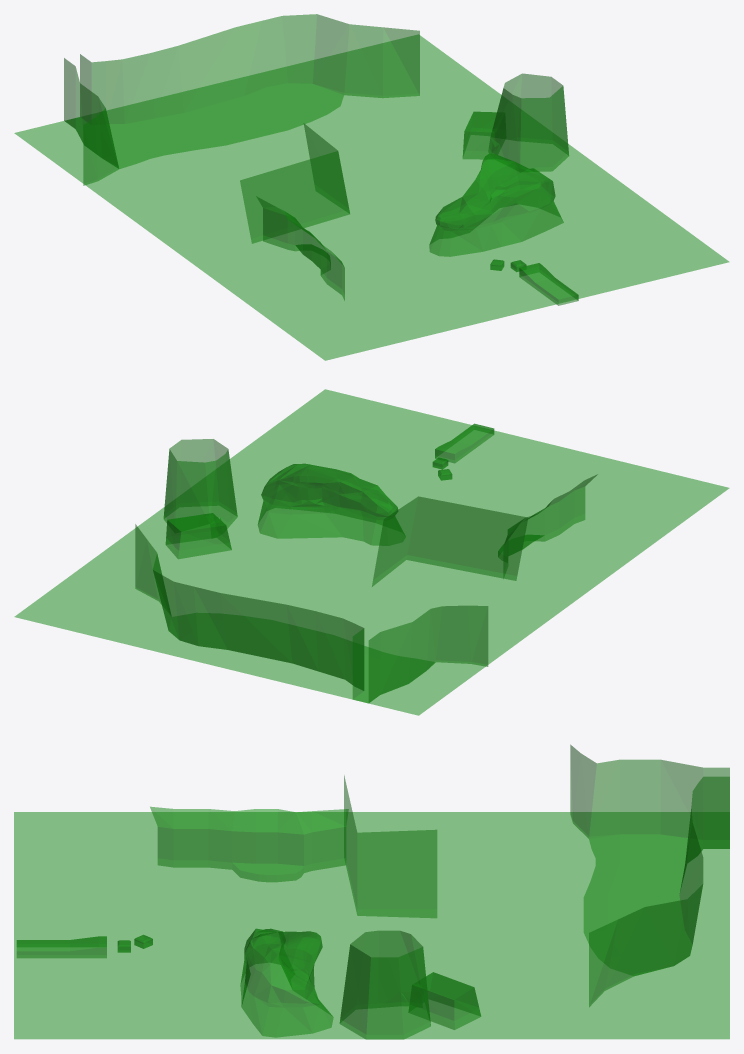
The model's file is camera_col.obj.
The picture shows the model from 3 angles, top to bottom: view 1: azimuth 30°, elevation 25°; view 2: azimuth 150°, elevation 25°; view 3: azimuth 270°, elevation 25°; orthographic projection. The views are drawn at different scales.
Bounding box in the file's own units: 202 × 43.54 × 269.
